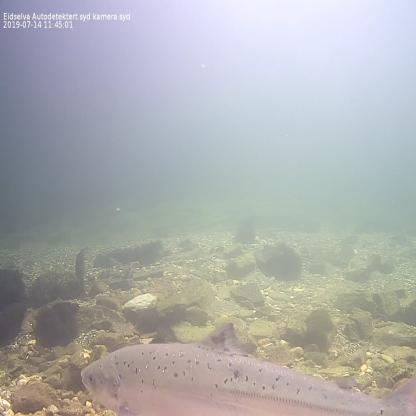salmon: (77, 318, 416, 416)
